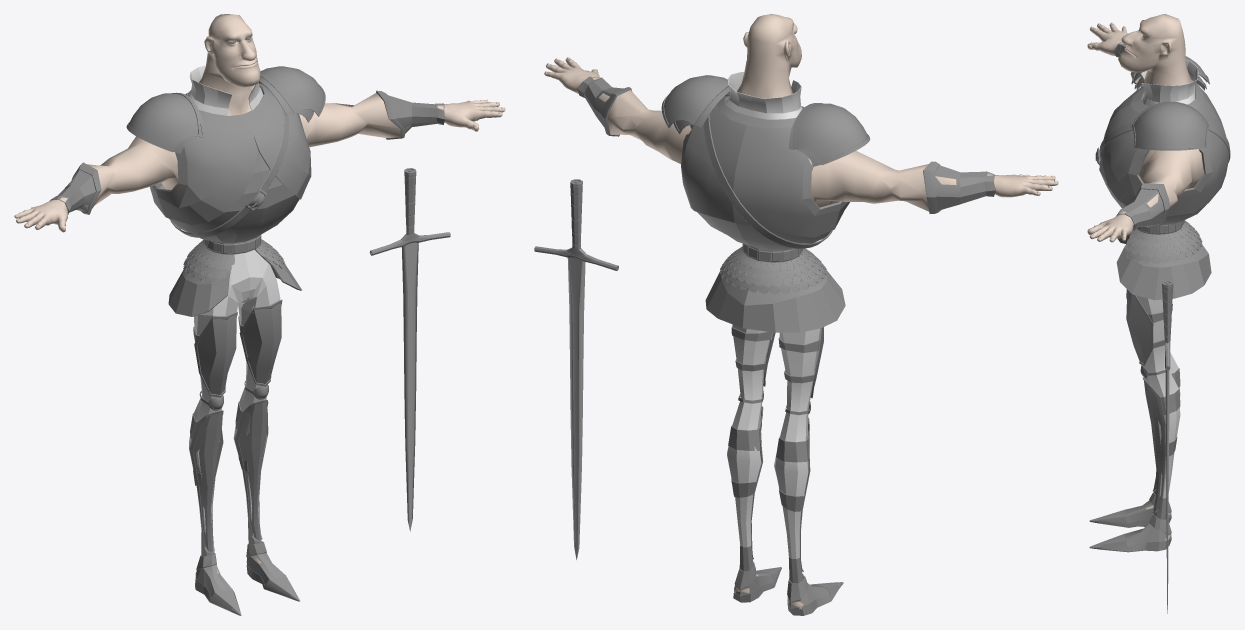
Rendered from sword_hollow_warrior_model.fbx.
3 renders of one model, left to right at view 1: azimuth 30°, elevation 25°; view 2: azimuth 150°, elevation 25°; view 3: azimuth 270°, elevation 25°, orthographic. The views are drawn at different scales.
Visible parts, largest first — view 1: soldier126, soldier120, soldier121, soldier125, soldier97, soldier104, soldier106, soldier112, soldier114, soldier124, soldier99, soldier119 (+5 smaller); view 2: soldier126, soldier120, soldier125, soldier124, soldier121, soldier97, soldier95, soldier99, soldier123, soldier116, soldier103, soldier100 (+3 smaller); view 3: soldier120, soldier126, soldier124, soldier99, soldier125, soldier118, soldier119, soldier121, soldier106, soldier114, soldier123, soldier100 (+3 smaller).
Boxes of the visible parts, <box> form: soldier126: <box>150,83,311,254</box>; soldier120: <box>14,14,505,576</box>; soldier121: <box>369,168,450,531</box>; soldier125: <box>189,250,280,533</box>; soldier97: <box>126,92,200,152</box>; soldier104: <box>189,410,223,553</box>; soldier106: <box>234,399,268,541</box>; soldier112: <box>194,312,237,397</box>; soldier114: <box>239,299,282,386</box>; soldier124: <box>168,249,301,316</box>; soldier99: <box>260,66,325,116</box>; soldier119: <box>376,90,444,139</box>; soldier126: <box>681,95,849,262</box>; soldier120: <box>544,14,1058,609</box>; soldier125: <box>727,324,820,558</box>; soldier124: <box>705,270,845,332</box>; soldier121: <box>534,179,618,559</box>; soldier97: <box>792,103,870,165</box>; soldier95: <box>923,161,995,213</box>; soldier99: <box>661,75,728,127</box>; soldier123: <box>725,71,802,119</box>; soldier116: <box>703,93,832,248</box>; soldier103: <box>776,437,808,583</box>; soldier100: <box>787,574,843,615</box>; soldier120: <box>1087,14,1204,540</box>; soldier126: <box>1099,83,1229,234</box>; soldier124: <box>1116,234,1211,300</box>; soldier99: <box>1131,101,1209,148</box>; soldier125: <box>1129,228,1180,498</box>; soldier118: <box>1089,514,1171,552</box>; soldier119: <box>1116,183,1170,229</box>; soldier121: <box>1162,280,1173,613</box>; soldier106: <box>1142,377,1165,513</box>; soldier114: <box>1126,290,1153,365</box>; soldier123: <box>1141,59,1198,106</box>; soldier100: <box>1089,492,1171,527</box>.
Size of the model in its own units: 25.13 by 28.05 by 7.
